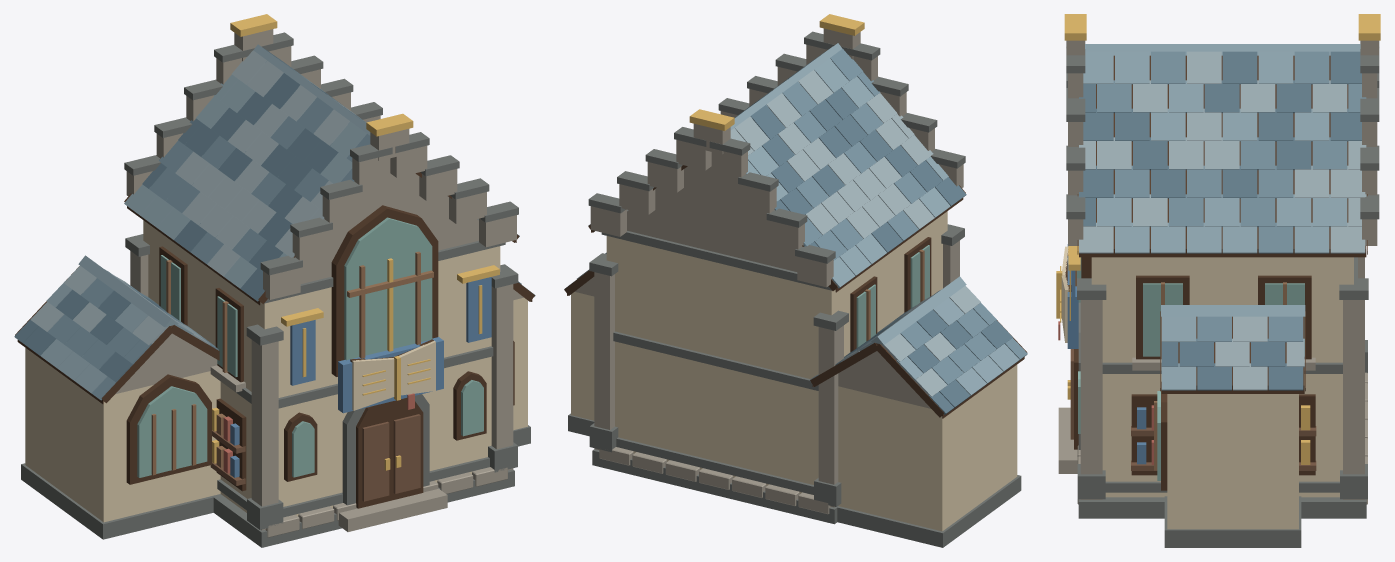
File: ENV_Civic_archive_LOD0.glb
3 views of the same model, side by side, from view 1: azimuth 30°, elevation 25°; view 2: azimuth 150°, elevation 25°; view 3: azimuth 270°, elevation 25° (orthographic). The views are drawn at different scales.
Parts seen in each view (by area): view 1: ENV_Civic_archive_LOD0_stepped_roof_roofTiles, ENV_Civic_archive_LOD0_reading_hall_plasterIvory, ENV_Civic_archive_LOD0_reading_hall_stone, ENV_Civic_archive_LOD0_stage6_map_room_plasterIvory, ENV_Civic_archive_LOD0_reading_hall_glass, ENV_Civic_archive_LOD0_stage6_map_room_roofTiles, ENV_Civic_archive_LOD0_stepped_roof_stone, ENV_Civic_archive_LOD0_reading_hall_woodDark, ENV_Civic_archive_LOD0_reading_hall_stoneDark, ENV_Civic_archive_LOD0_stepped_roof_stoneDark, ENV_Civic_archive_LOD0_archive_identity_blue, ENV_Civic_archive_LOD0_stage6_map_room_glass (+14 smaller); view 2: ENV_Civic_archive_LOD0_reading_hall_plasterIvory, ENV_Civic_archive_LOD0_stepped_roof_roofTiles, ENV_Civic_archive_LOD0_stage6_map_room_plasterIvory, ENV_Civic_archive_LOD0_reading_hall_stone, ENV_Civic_archive_LOD0_stage6_map_room_roofTiles, ENV_Civic_archive_LOD0_stepped_roof_stone, ENV_Civic_archive_LOD0_reading_hall_stoneDark, ENV_Civic_archive_LOD0_stepped_roof_stoneDark, ENV_Civic_archive_LOD0_foundation_stone, ENV_Civic_archive_LOD0_stage6_map_room_stoneDark, ENV_Civic_archive_LOD0_stage5_scriptorium_plasterIvory, ENV_Civic_archive_LOD0_foundation_stoneDark (+5 smaller); view 3: ENV_Civic_archive_LOD0_stepped_roof_roofTiles, ENV_Civic_archive_LOD0_reading_hall_plasterIvory, ENV_Civic_archive_LOD0_stage5_scriptorium_plasterIvory, ENV_Civic_archive_LOD0_stage5_scriptorium_roofTiles, ENV_Civic_archive_LOD0_reading_hall_stone, ENV_Civic_archive_LOD0_reading_hall_stoneDark, ENV_Civic_archive_LOD0_stepped_roof_woodDark, ENV_Civic_archive_LOD0_stepped_roof_stoneDark, ENV_Civic_archive_LOD0_stepped_roof_stone, ENV_Civic_archive_LOD0_foundation_stoneDark, ENV_Civic_archive_LOD0_reading_hall_woodDark, ENV_Civic_archive_LOD0_stage5_scriptorium_stoneDark (+8 smaller).
Part boxes in pixels (box(x1,y1,x2,y2)): ENV_Civic_archive_LOD0_stepped_roof_roofTiles: box(124, 44, 519, 301); ENV_Civic_archive_LOD0_reading_hall_plasterIvory: box(143, 220, 500, 516); ENV_Civic_archive_LOD0_reading_hall_stone: box(130, 173, 513, 531); ENV_Civic_archive_LOD0_stage6_map_room_plasterIvory: box(25, 348, 220, 522); ENV_Civic_archive_LOD0_reading_hall_glass: box(160, 217, 483, 477); ENV_Civic_archive_LOD0_stage6_map_room_roofTiles: box(14, 255, 218, 400); ENV_Civic_archive_LOD0_stepped_roof_stone: box(126, 29, 516, 299); ENV_Civic_archive_LOD0_reading_hall_woodDark: box(159, 205, 486, 508); ENV_Civic_archive_LOD0_reading_hall_stoneDark: box(125, 196, 518, 529); ENV_Civic_archive_LOD0_stepped_roof_stoneDark: box(124, 32, 518, 275); ENV_Civic_archive_LOD0_archive_identity_blue: box(230, 277, 491, 477); ENV_Civic_archive_LOD0_stage6_map_room_glass: box(137, 386, 207, 477); ENV_Civic_archive_LOD0_reading_hall_plasterIvory: box(606, 211, 947, 493); ENV_Civic_archive_LOD0_stepped_roof_roofTiles: box(588, 43, 966, 288); ENV_Civic_archive_LOD0_stage6_map_room_plasterIvory: box(838, 364, 1017, 531); ENV_Civic_archive_LOD0_reading_hall_stone: box(594, 166, 959, 507); ENV_Civic_archive_LOD0_stage6_map_room_roofTiles: box(809, 276, 1027, 414); ENV_Civic_archive_LOD0_stepped_roof_stone: box(590, 28, 963, 287); ENV_Civic_archive_LOD0_reading_hall_stoneDark: box(589, 188, 964, 506); ENV_Civic_archive_LOD0_stepped_roof_stoneDark: box(588, 31, 965, 263); ENV_Civic_archive_LOD0_foundation_stone: box(599, 447, 830, 514); ENV_Civic_archive_LOD0_stage6_map_room_stoneDark: box(837, 475, 1021, 547); ENV_Civic_archive_LOD0_stage5_scriptorium_plasterIvory: box(571, 292, 594, 420); ENV_Civic_archive_LOD0_foundation_stoneDark: box(592, 449, 838, 524); ENV_Civic_archive_LOD0_stepped_roof_roofTiles: box(1079, 44, 1366, 253); ENV_Civic_archive_LOD0_reading_hall_plasterIvory: box(1091, 257, 1353, 497); ENV_Civic_archive_LOD0_stage5_scriptorium_plasterIvory: box(1167, 394, 1298, 529); ENV_Civic_archive_LOD0_stage5_scriptorium_roofTiles: box(1161, 305, 1305, 390); ENV_Civic_archive_LOD0_reading_hall_stone: box(1058, 257, 1364, 499); ENV_Civic_archive_LOD0_reading_hall_stoneDark: box(1077, 257, 1368, 499); ENV_Civic_archive_LOD0_stepped_roof_woodDark: box(1077, 55, 1367, 257); ENV_Civic_archive_LOD0_stepped_roof_stoneDark: box(1066, 41, 1379, 219); ENV_Civic_archive_LOD0_stepped_roof_stone: box(1066, 40, 1378, 245); ENV_Civic_archive_LOD0_foundation_stoneDark: box(1078, 497, 1366, 518); ENV_Civic_archive_LOD0_reading_hall_woodDark: box(1074, 257, 1311, 449); ENV_Civic_archive_LOD0_stage5_scriptorium_stoneDark: box(1164, 496, 1301, 547).
Bounding box in the file's own units: 8.75 × 7.74 × 5.32.
